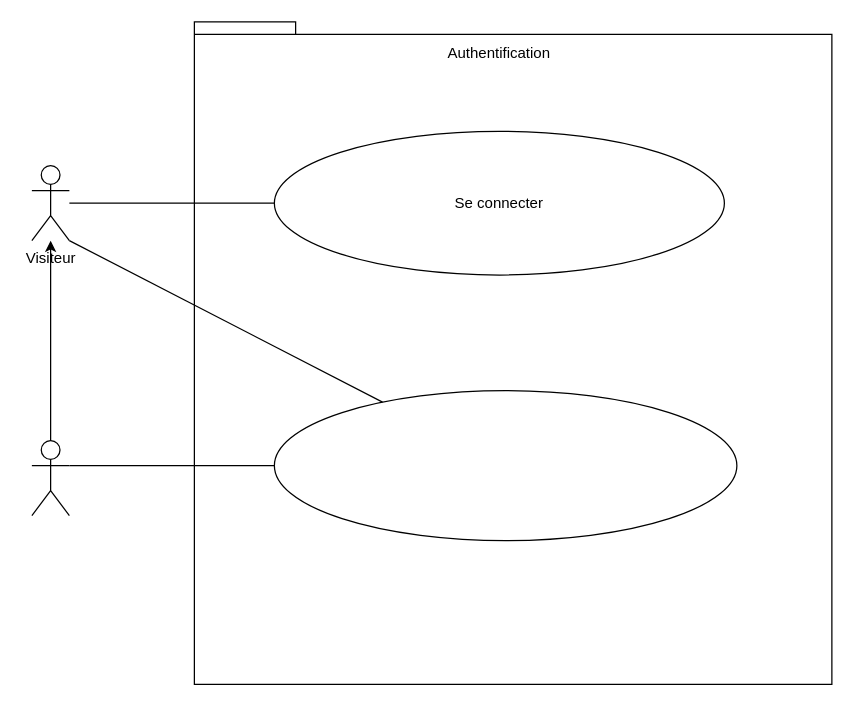
The diagram is 854 pixels wide and 706 high, and some of its shapes have lost their labels. Here are the shapes that lost their labels. From the top down, the box of each, then its label:
(31, 439, 69, 516): Manager
(273, 389, 737, 541): Créer un compte
